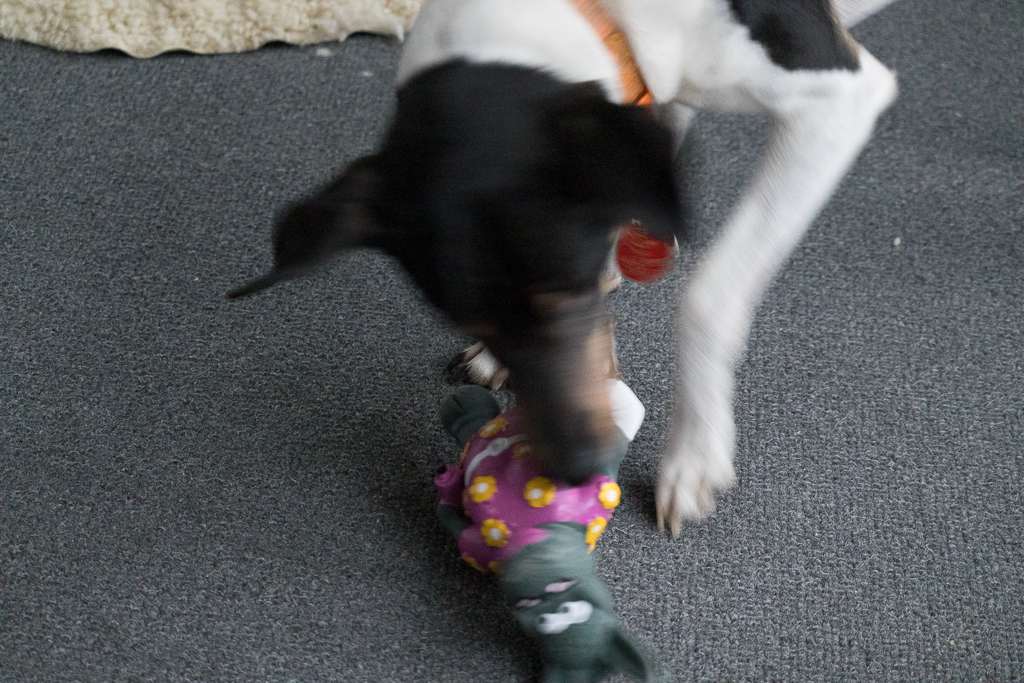Dog: (217, 0, 913, 553)
Humanoid: (416, 335, 671, 683)
